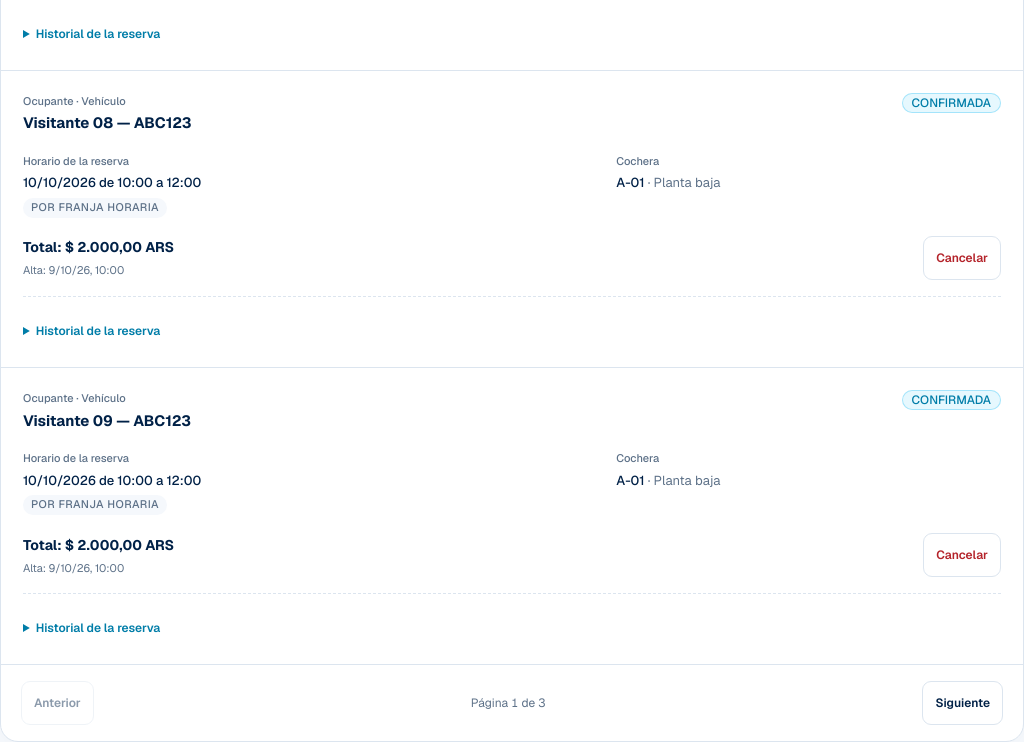
Test case: ReservasListado en modo admin › pagina de a diez, permite volver y reinicia la página al cambiar orden o filtro
(page scrolled)
Check: the button "Anterior" is disabled, box [21, 681, 94, 725]
Click the button "Siguiente" at (963, 703), box [922, 681, 1003, 725]
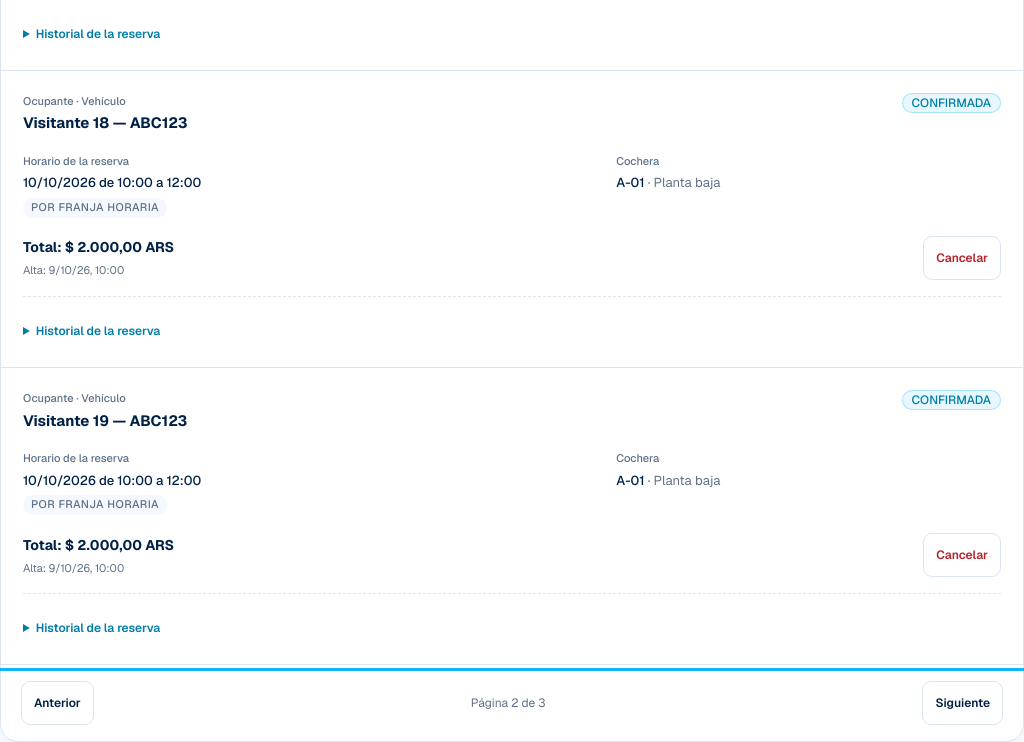
Click the button "Siguiente" at (963, 703), box [922, 681, 1003, 725]
(page scrolled)
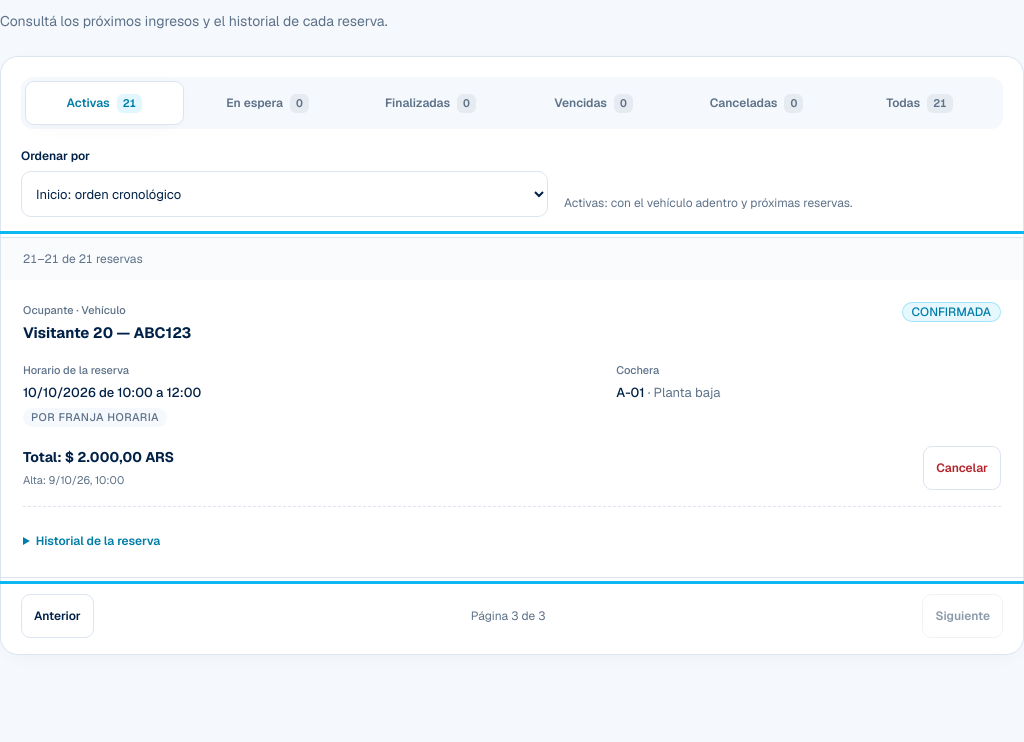
Check: the number of list items is 1, box [1, 280, 1023, 577]
Check: the button "Siguiente" is disabled, box [922, 594, 1003, 638]
Check: the text "Página 3 de 3" is shown, box [471, 607, 545, 625]
Click the button "Anterior" at (57, 616), box [21, 594, 94, 638]
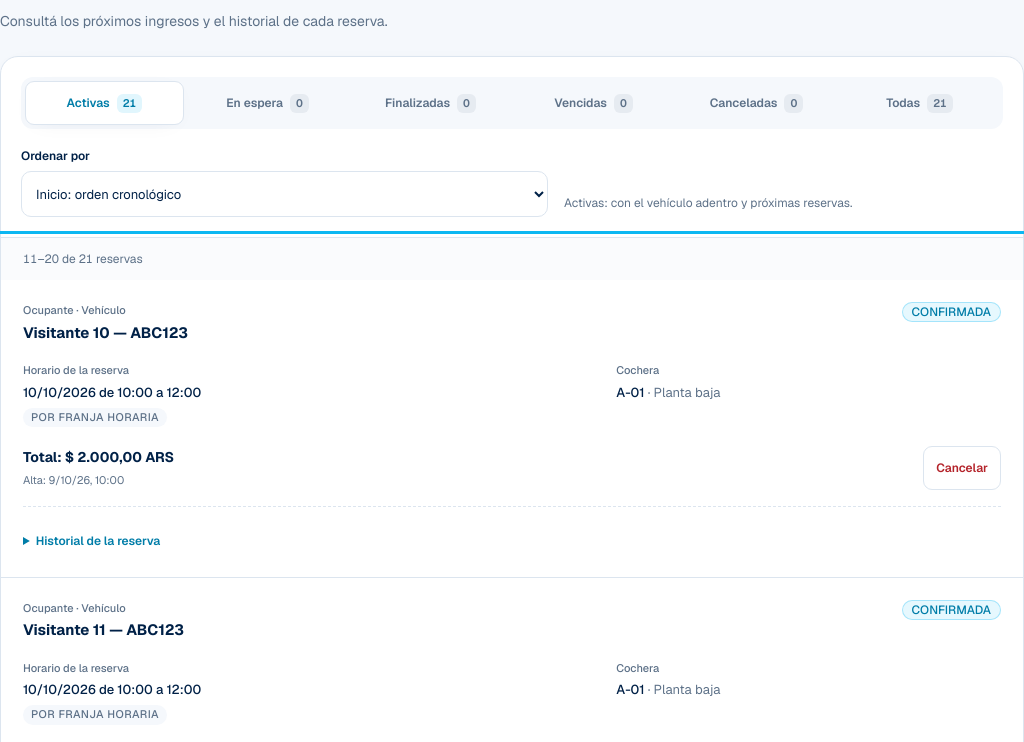
Select "Alta: más antiguas primero" in the dropdown labelled "Ordenar por" at (284, 194), box [21, 171, 548, 217]
(page scrolled)
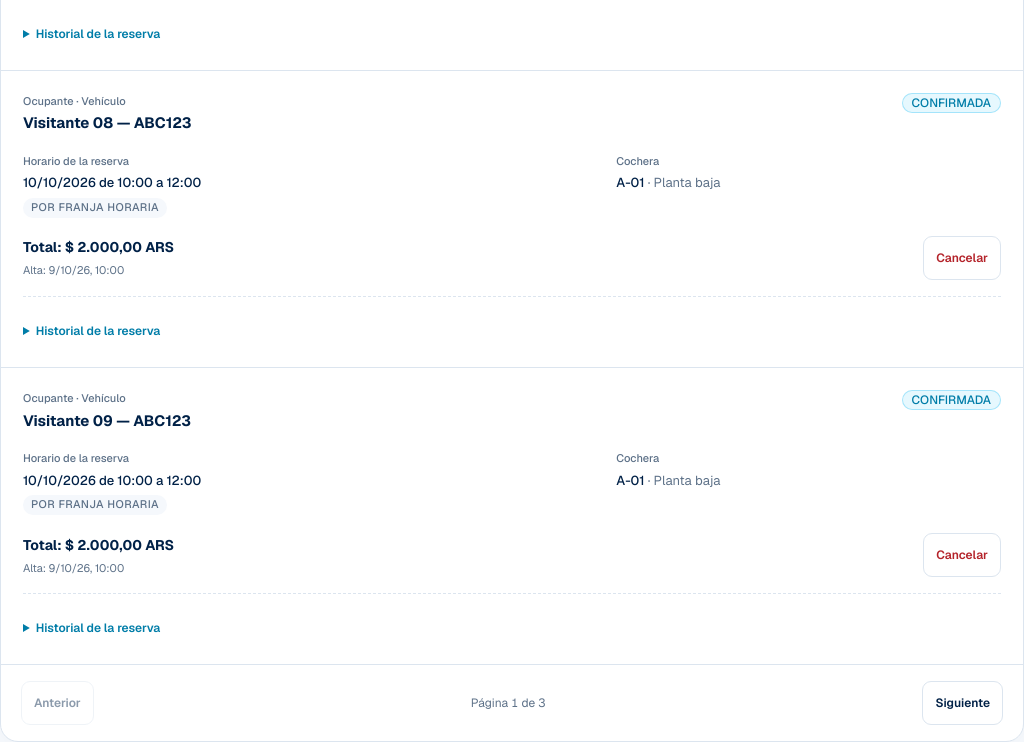
Check: the text "Página 1 de 3" is shown, box [471, 694, 545, 712]
Click the button "Siguiente" at (963, 703), box [922, 681, 1003, 725]
(page scrolled)
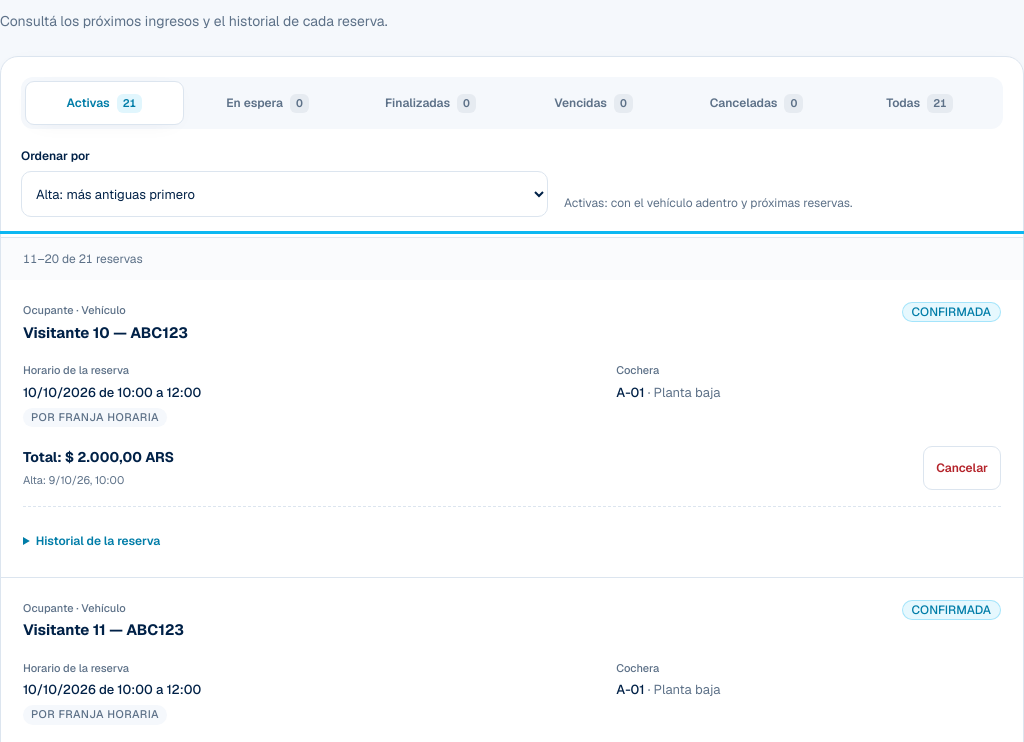
Click the button "Todas 21" at (920, 103), box [840, 81, 999, 125]
(page scrolled)
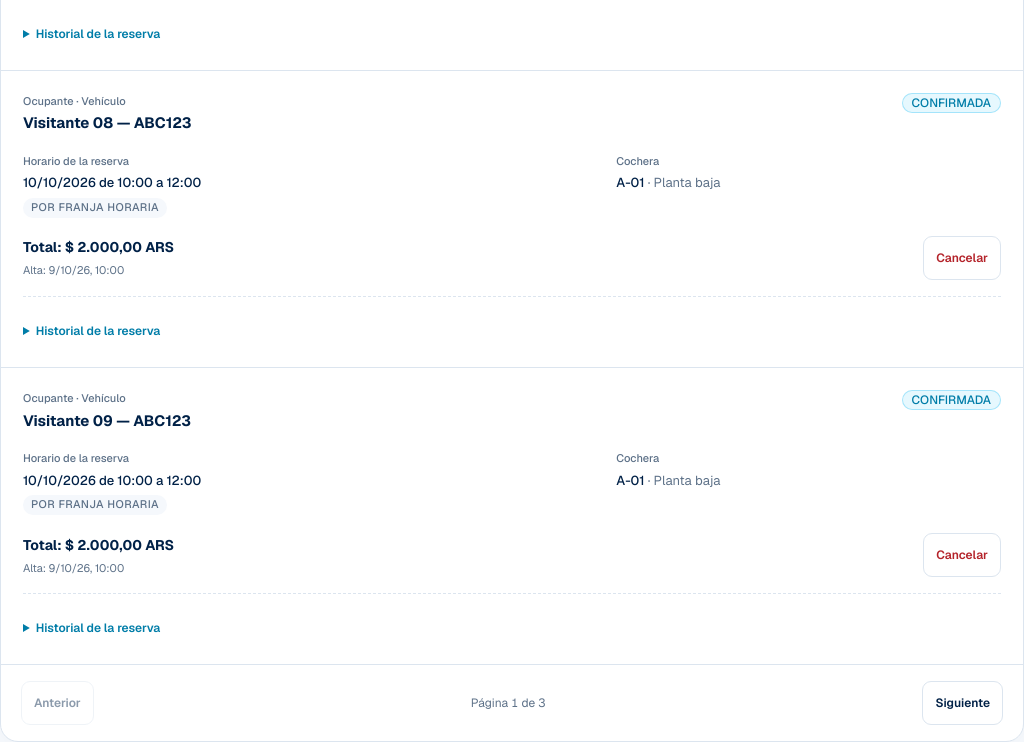
Check: the text "Página 1 de 3" is shown, box [471, 694, 545, 712]
